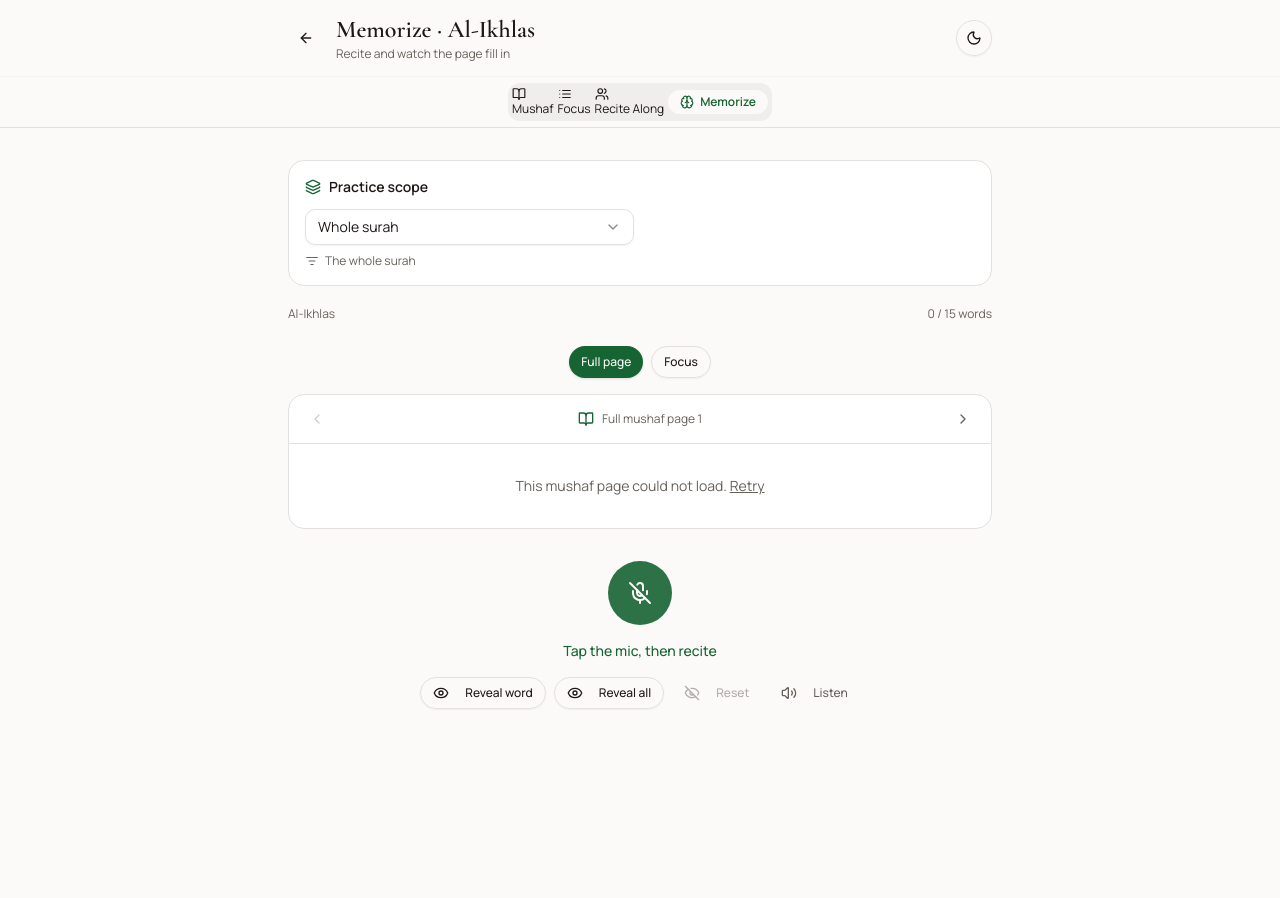
Test: network failure shows a persistent explanation instead of looping
Click the button with test id "memorize-view-focus": click(681, 362) x1=651 y1=346 x2=711 y2=378
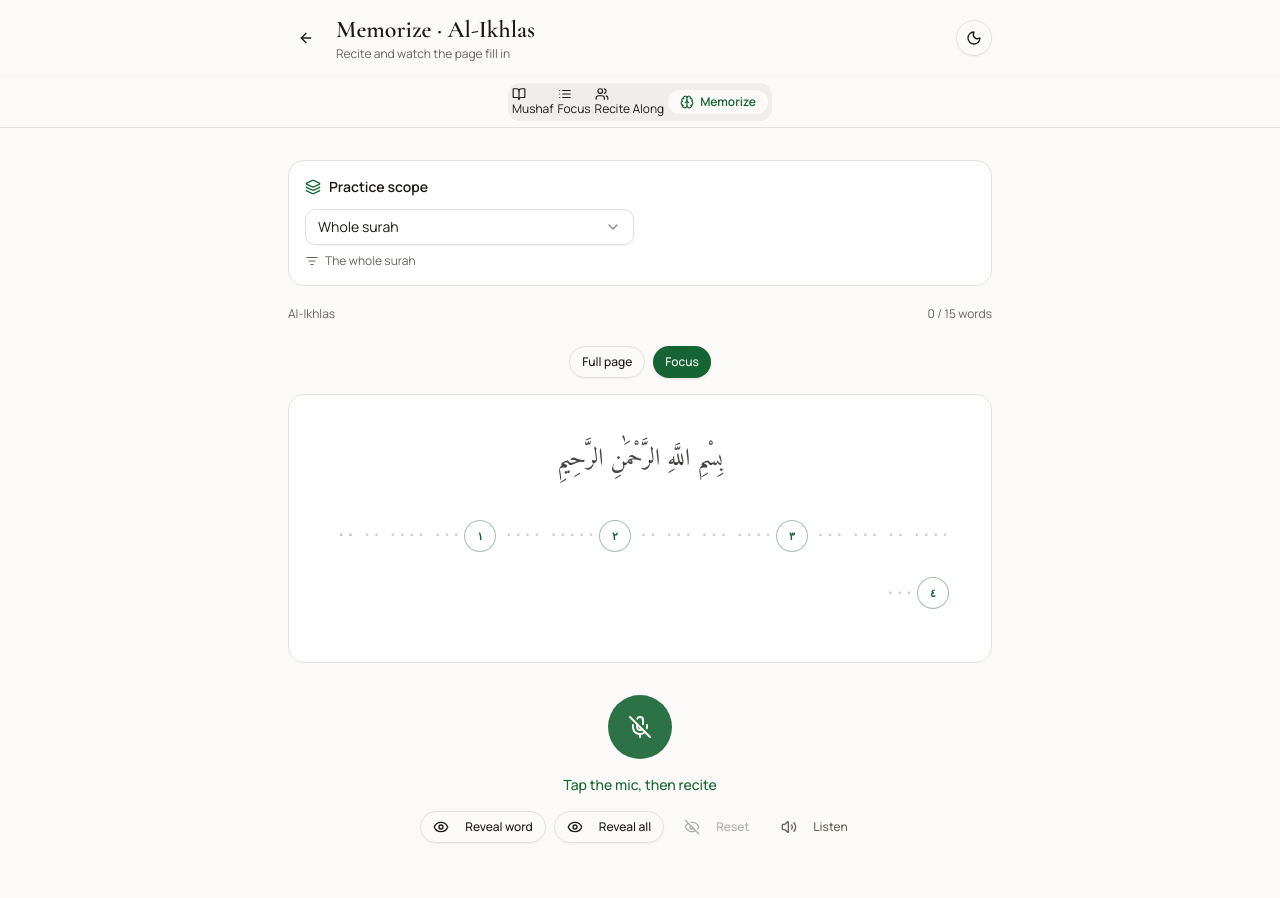
Click the button named "Start reciting": click(640, 727) x1=608 y1=695 x2=672 y2=759
Wait 10000 ms
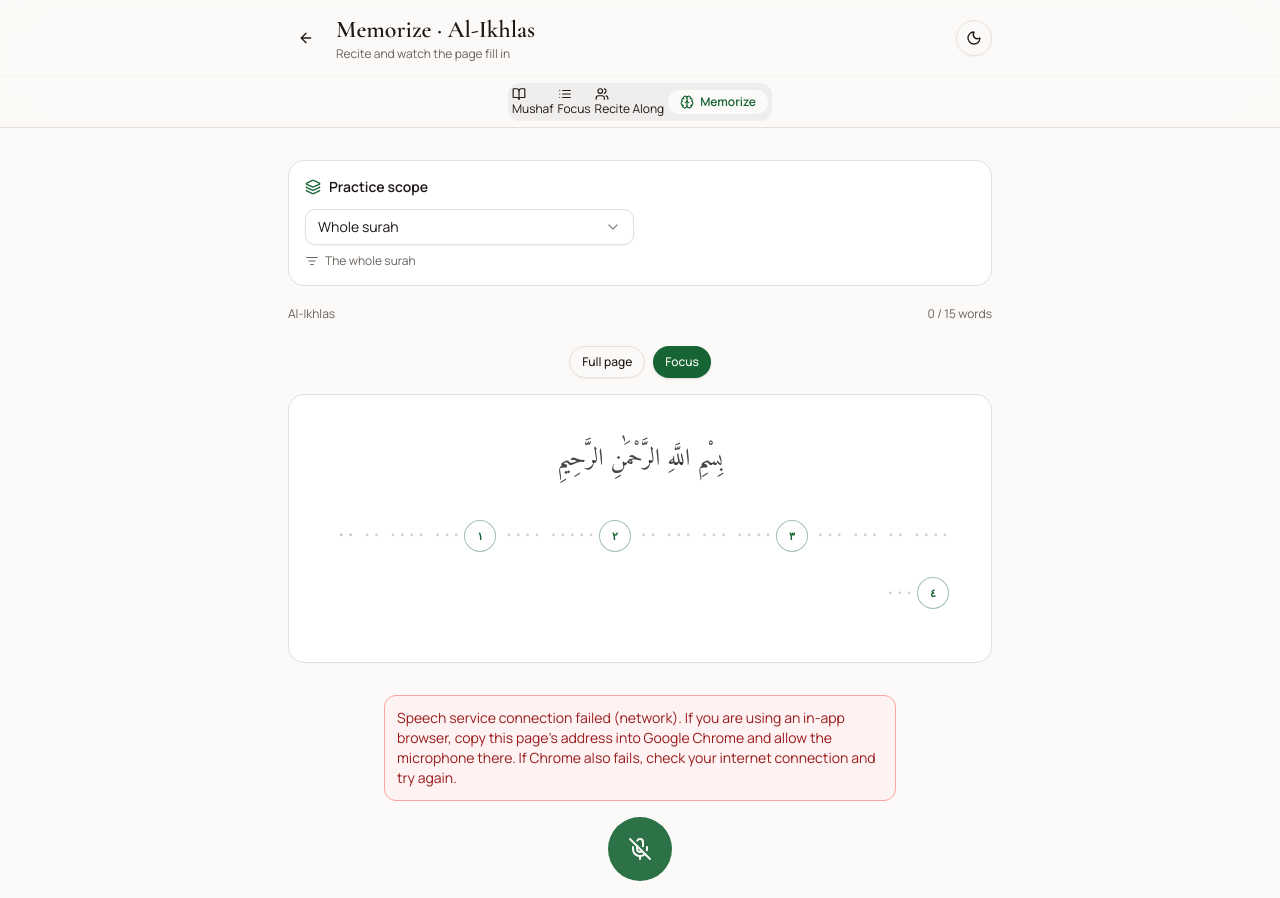
Now the message with test id "recognition-error" shows "network", box x1=397 y1=708 x2=876 y2=787
Now the message with test id "recognition-error" shows "Google Chrome", box x1=397 y1=708 x2=876 y2=787
Click the button named "Start reciting": click(640, 849) x1=608 y1=817 x2=672 y2=881
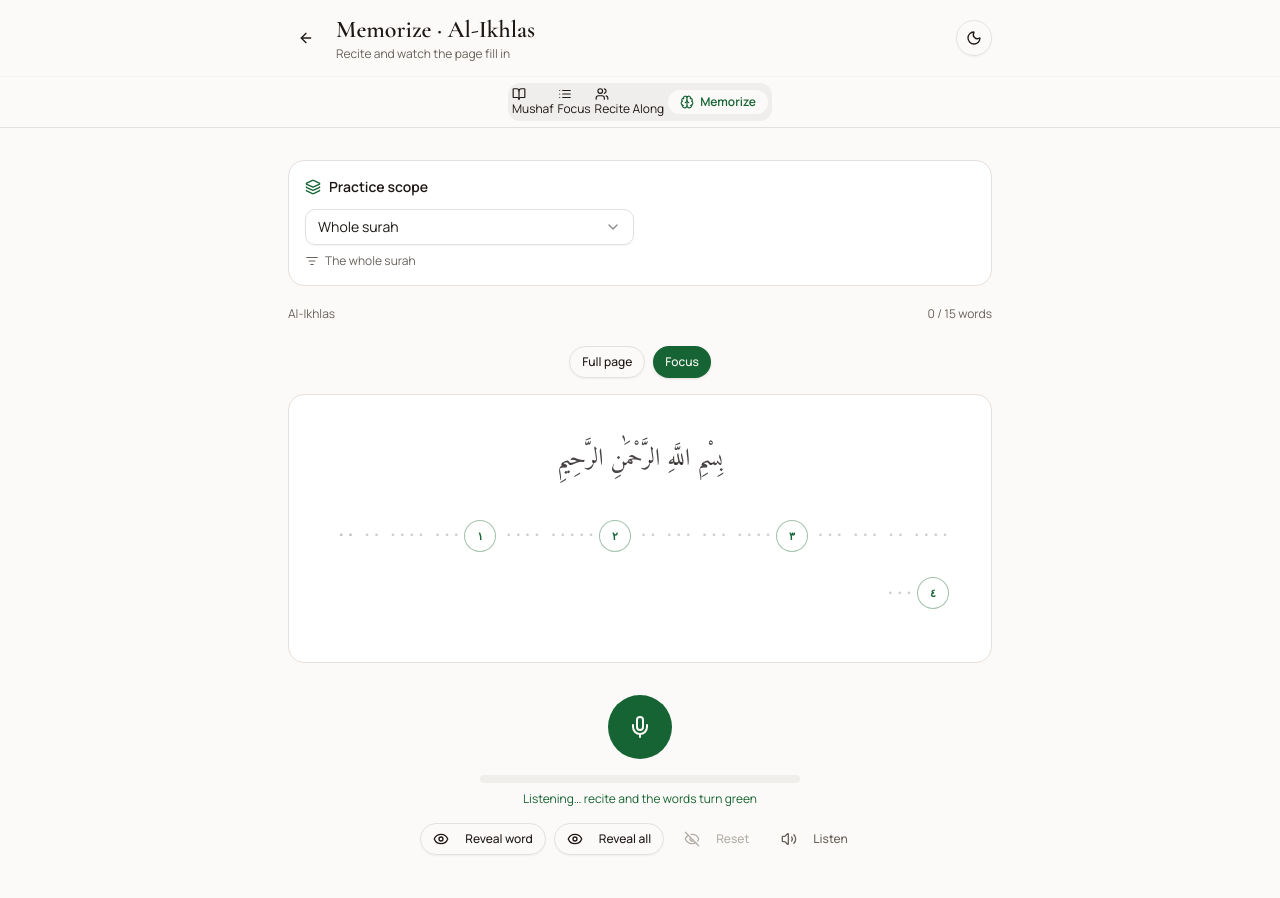
Now the message with test id "recognition-error" is gone
